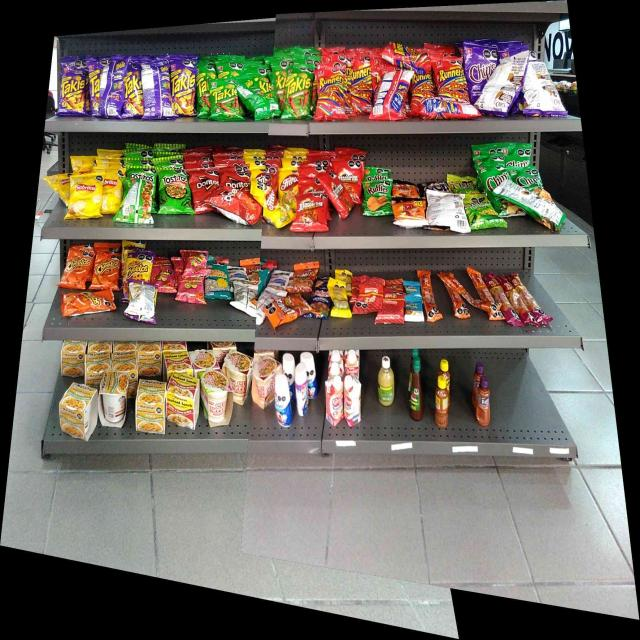bitzAlmendras: (406, 296, 420, 322)
bitzEnchilado90: (381, 292, 404, 323), (358, 283, 380, 313)
bitzEnchilado95: (452, 271, 494, 321), (421, 270, 436, 322)
bitzHabanero: (496, 274, 547, 326)
bokadosCacahuates: (312, 281, 329, 318)
botaneraChilito: (434, 374, 449, 430)
cheetosFlaminHot: (125, 252, 152, 278)
cheetosOriginal: (95, 249, 119, 290), (64, 294, 114, 313), (66, 250, 90, 288)
chipsFuego: (468, 44, 489, 89)
chipsJalapeno: (493, 167, 514, 216), (514, 167, 546, 191)
chipsPapatinas: (467, 194, 492, 228)
churrumais: (177, 277, 205, 304), (155, 260, 175, 292), (183, 249, 206, 276)
delPrimoSalsa: (378, 356, 395, 406)
doritosNacho: (191, 168, 219, 213), (220, 187, 252, 221)
fritosLimon: (260, 184, 280, 226), (281, 169, 298, 209)
hotNutsOriginal: (394, 198, 426, 226)
leoCacahuates: (271, 270, 290, 290), (229, 266, 248, 280)
leoMix: (272, 298, 306, 322), (293, 264, 311, 291)
maruchanPollo: (61, 384, 95, 438), (137, 380, 165, 435), (100, 372, 127, 426)
nestleCarnation: (325, 378, 343, 426), (344, 376, 362, 424)
nestleLechera: (276, 377, 292, 428), (295, 364, 309, 416)
nissinCamaron: (201, 372, 231, 426)
nissinRes: (168, 374, 199, 426), (232, 354, 254, 402), (256, 356, 275, 405)
popKarameladas: (427, 190, 466, 233)
productoAtras: (490, 51, 526, 115), (528, 63, 562, 117), (144, 62, 172, 119), (380, 70, 411, 120), (122, 179, 153, 224), (102, 60, 125, 117), (532, 193, 564, 230), (421, 97, 476, 118), (128, 280, 154, 323), (234, 281, 257, 317), (239, 78, 260, 108), (260, 288, 270, 322)
rancheritos: (299, 195, 327, 232), (344, 160, 362, 204), (328, 172, 343, 218)
rufflesQueso: (364, 181, 392, 216)
runners: (316, 68, 344, 120), (432, 58, 466, 96), (351, 64, 371, 112), (392, 43, 428, 69)
sabritasOriginal: (70, 176, 102, 219), (102, 172, 120, 213), (51, 171, 69, 197)
salsaBufalo: (409, 357, 424, 421)
semillasCalabaza: (331, 279, 350, 318)
semillasGirasol: (208, 266, 227, 299)
tajinDulce: (476, 377, 491, 428)
takisFuego: (59, 62, 86, 116), (173, 62, 196, 116), (126, 68, 142, 119), (87, 61, 100, 116)
takisOriginal: (286, 70, 310, 118), (211, 80, 238, 120), (197, 66, 210, 117)
tostitos: (158, 168, 189, 215)
